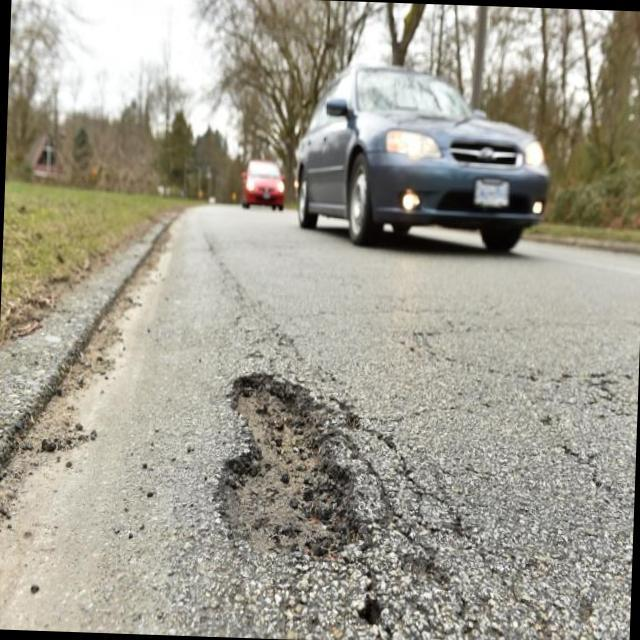Pothole: (223, 381, 351, 556)
